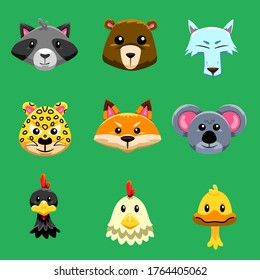animal: (169, 95, 246, 153), (98, 15, 165, 73), (6, 16, 81, 67), (94, 96, 163, 147), (182, 18, 238, 80), (16, 95, 72, 154)
bird: (109, 177, 158, 242), (197, 178, 237, 248), (28, 174, 62, 242)
